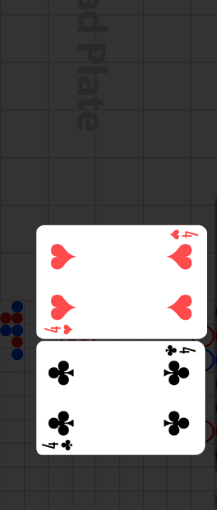4C: (163, 344, 197, 359)
4H: (168, 228, 199, 241)
